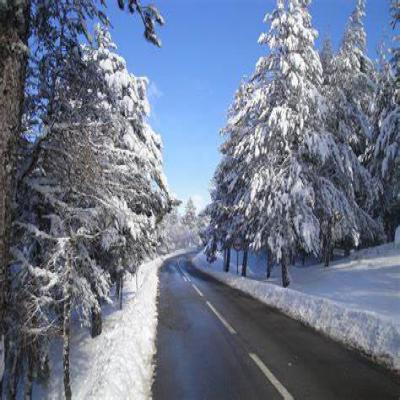clear-road: (153, 257, 400, 400)
